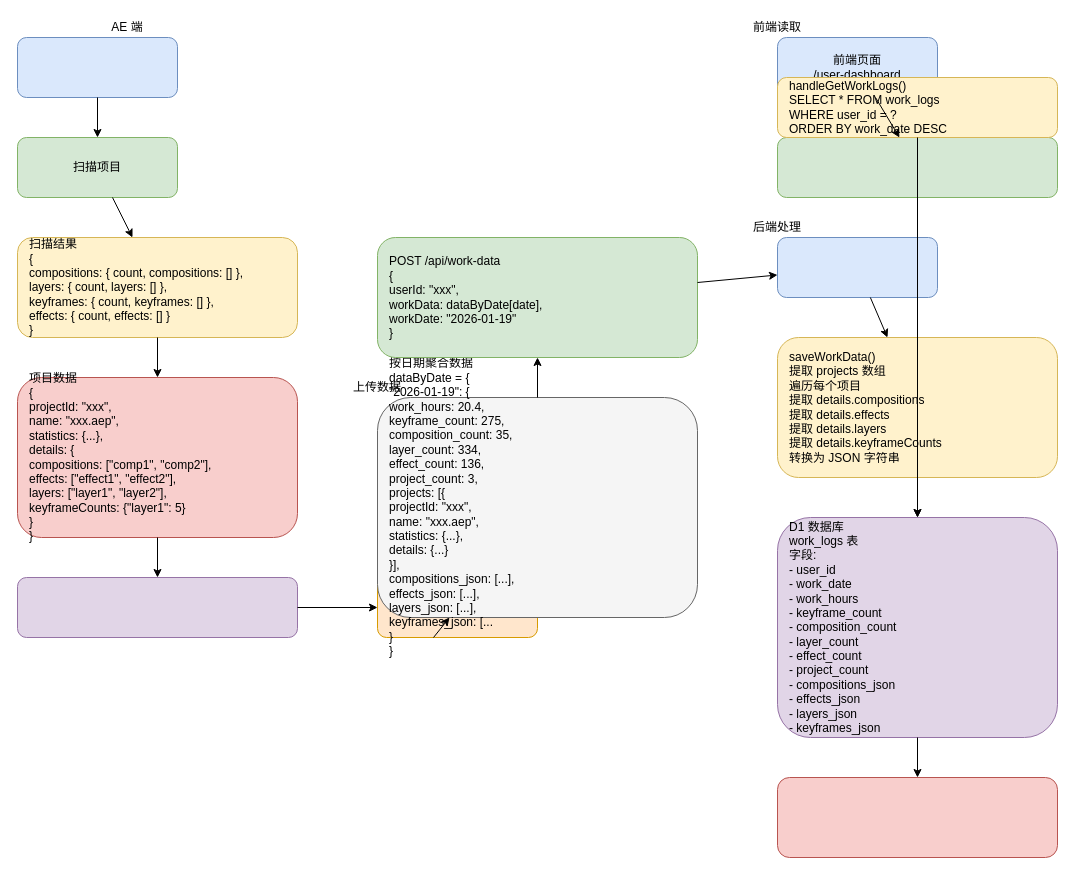
Some shapes in this 1075 by 875 pixel diagram are drawn without their labels. Each missing label, with the box of its shape:
AE 扩展面板: (16, 36, 178, 98)
Cloudflare Worker /api/work-data: (776, 236, 938, 298)
GET /api/work-logs 或 GET /api/work-logs?date=2026-01-19: (776, 136, 1058, 198)
保存 JSON 文件 路径: Documents/RuAlive@烟囱鸭/ YYYY-MM-DD-项目名-hash.json: (16, 576, 298, 638)
显示数据 1. 工作历史表格（分页） 2. 双击行显示详情弹窗 3. 双击统计卡片显示详细列表: (776, 776, 1058, 858)
